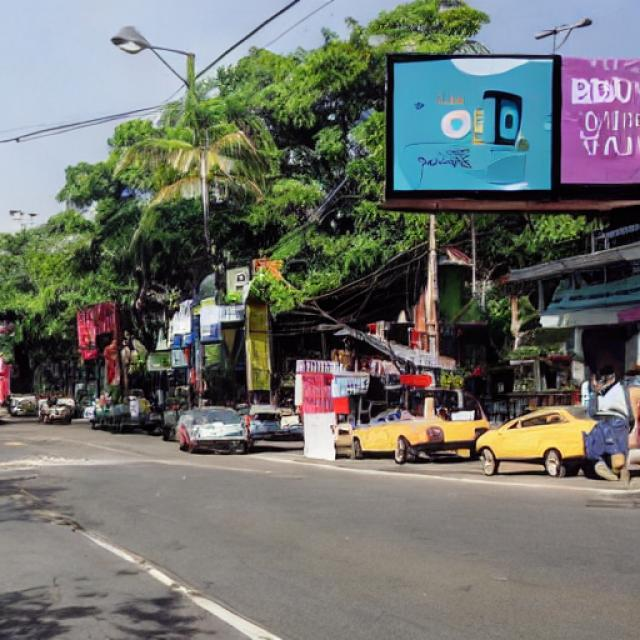Billboard: (384, 50, 640, 205)
